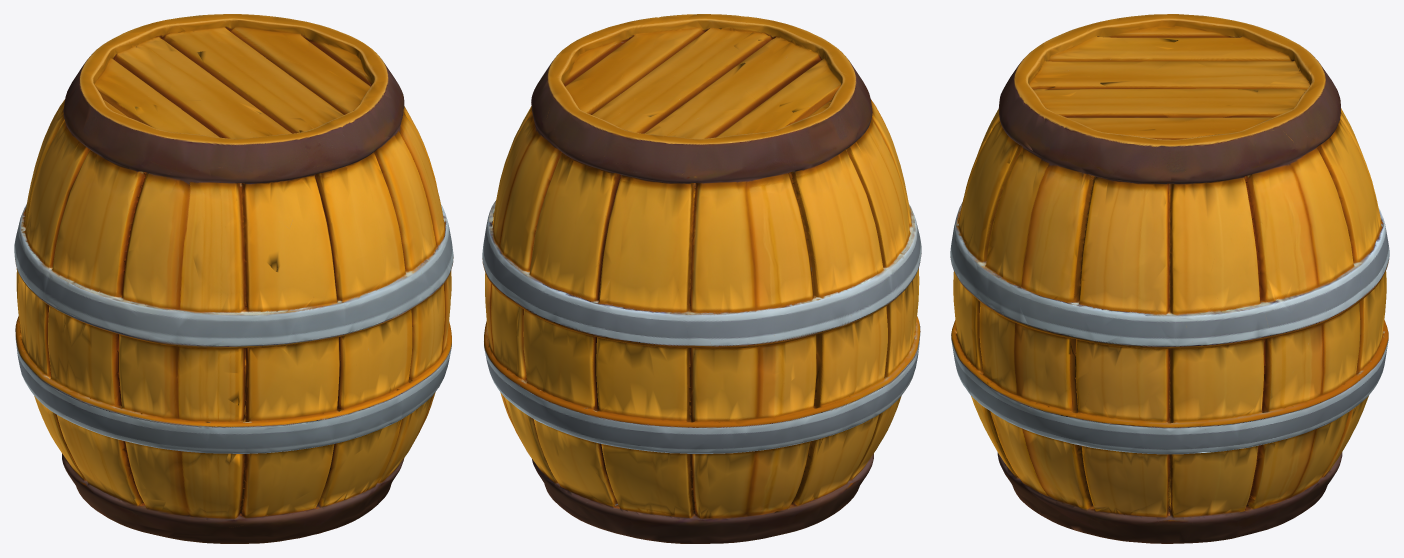
The model's file is prop-barrel.glb.
The picture shows the model from 3 angles, left to right: view 1: azimuth 30°, elevation 25°; view 2: azimuth 150°, elevation 25°; view 3: azimuth 270°, elevation 25°; orthographic projection.
Size of the model in its own units: 1.91 by 1.91 by 1.91.
1 material, 1 textured.
